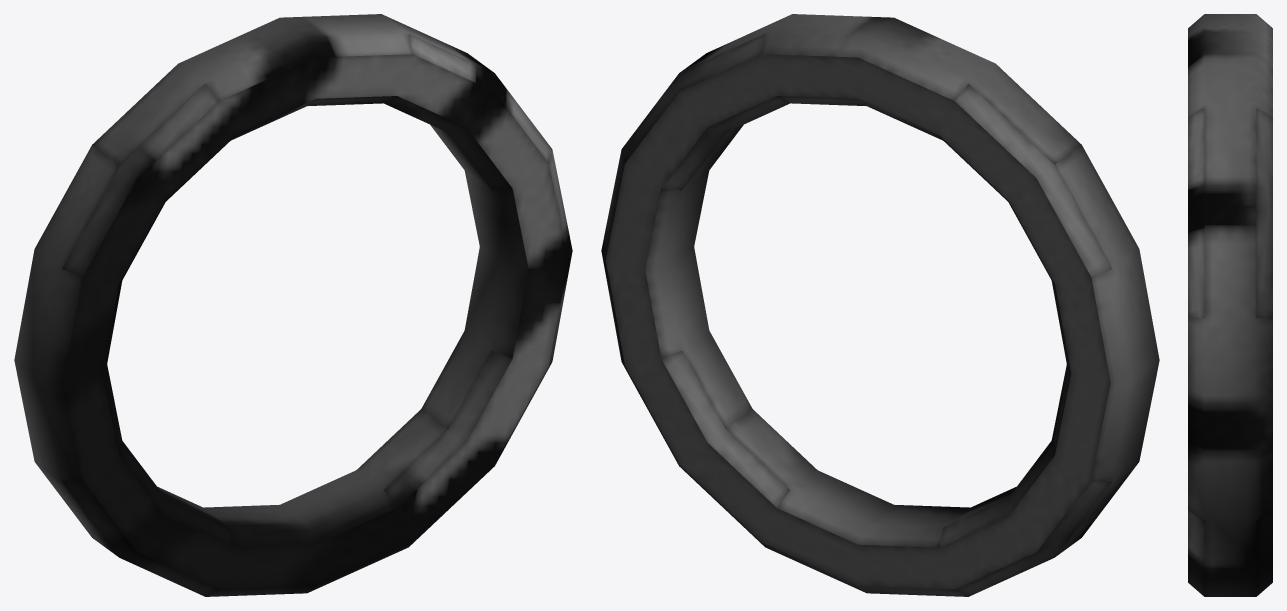
Rendered from barrel.obj.
The picture shows the model from 3 angles, left to right: view 1: azimuth 30°, elevation 25°; view 2: azimuth 150°, elevation 25°; view 3: azimuth 270°, elevation 25°; orthographic projection. The views are drawn at different scales.
Parts seen in each view (by area): view 1: Object001; view 2: Object001; view 3: Object001.
Boxes of the visible parts, box(x1,y1,x2,y2) form: Object001: box(14, 14, 572, 596); Object001: box(601, 14, 1159, 596); Object001: box(1188, 14, 1272, 596).
Size of the model in its own units: 41.55 by 41.55 by 6.03.
1 material, 1 textured.
